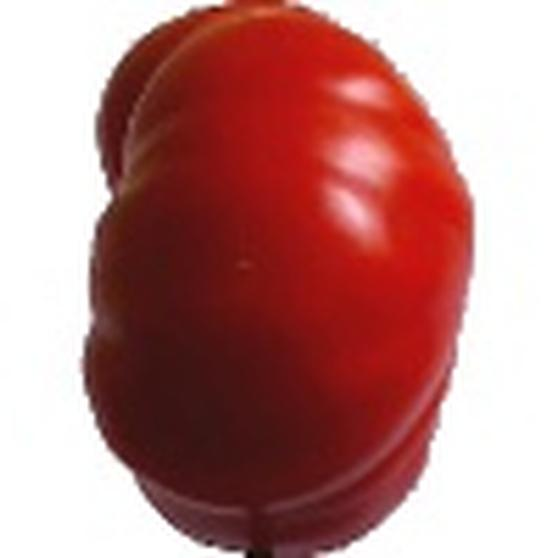tomato: (81, 2, 474, 555)
